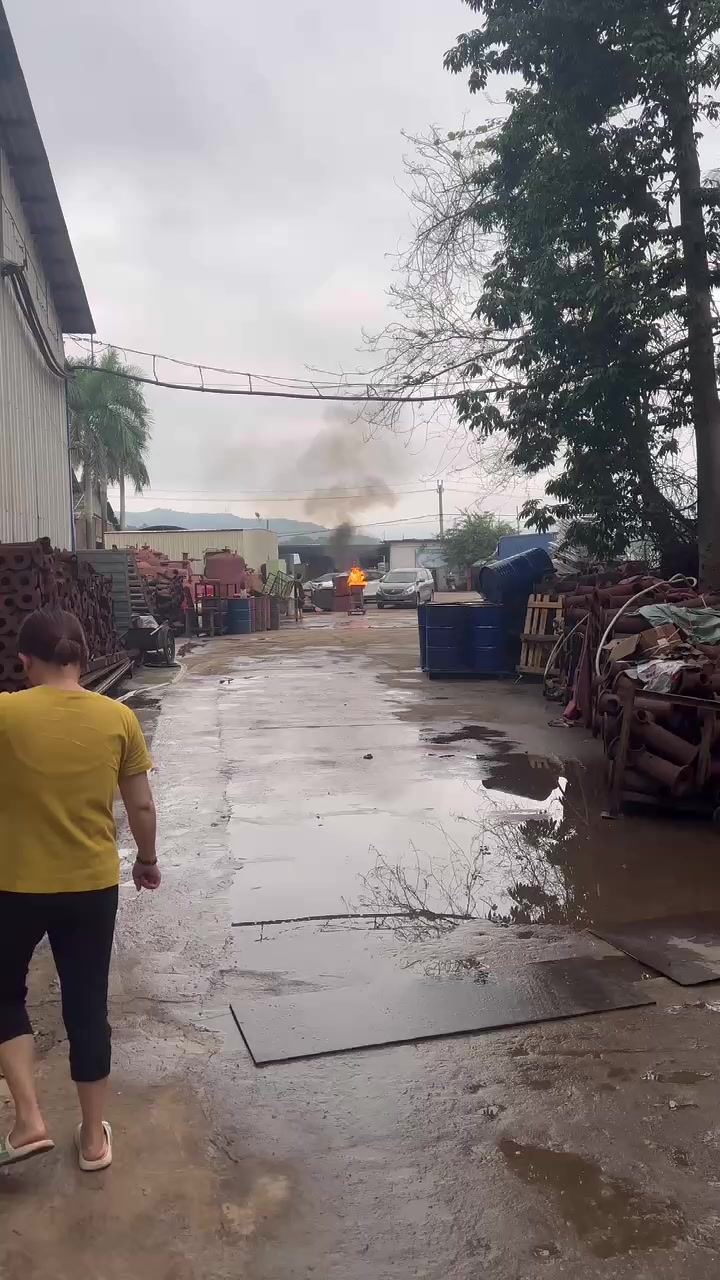fire: (346, 566, 366, 586)
